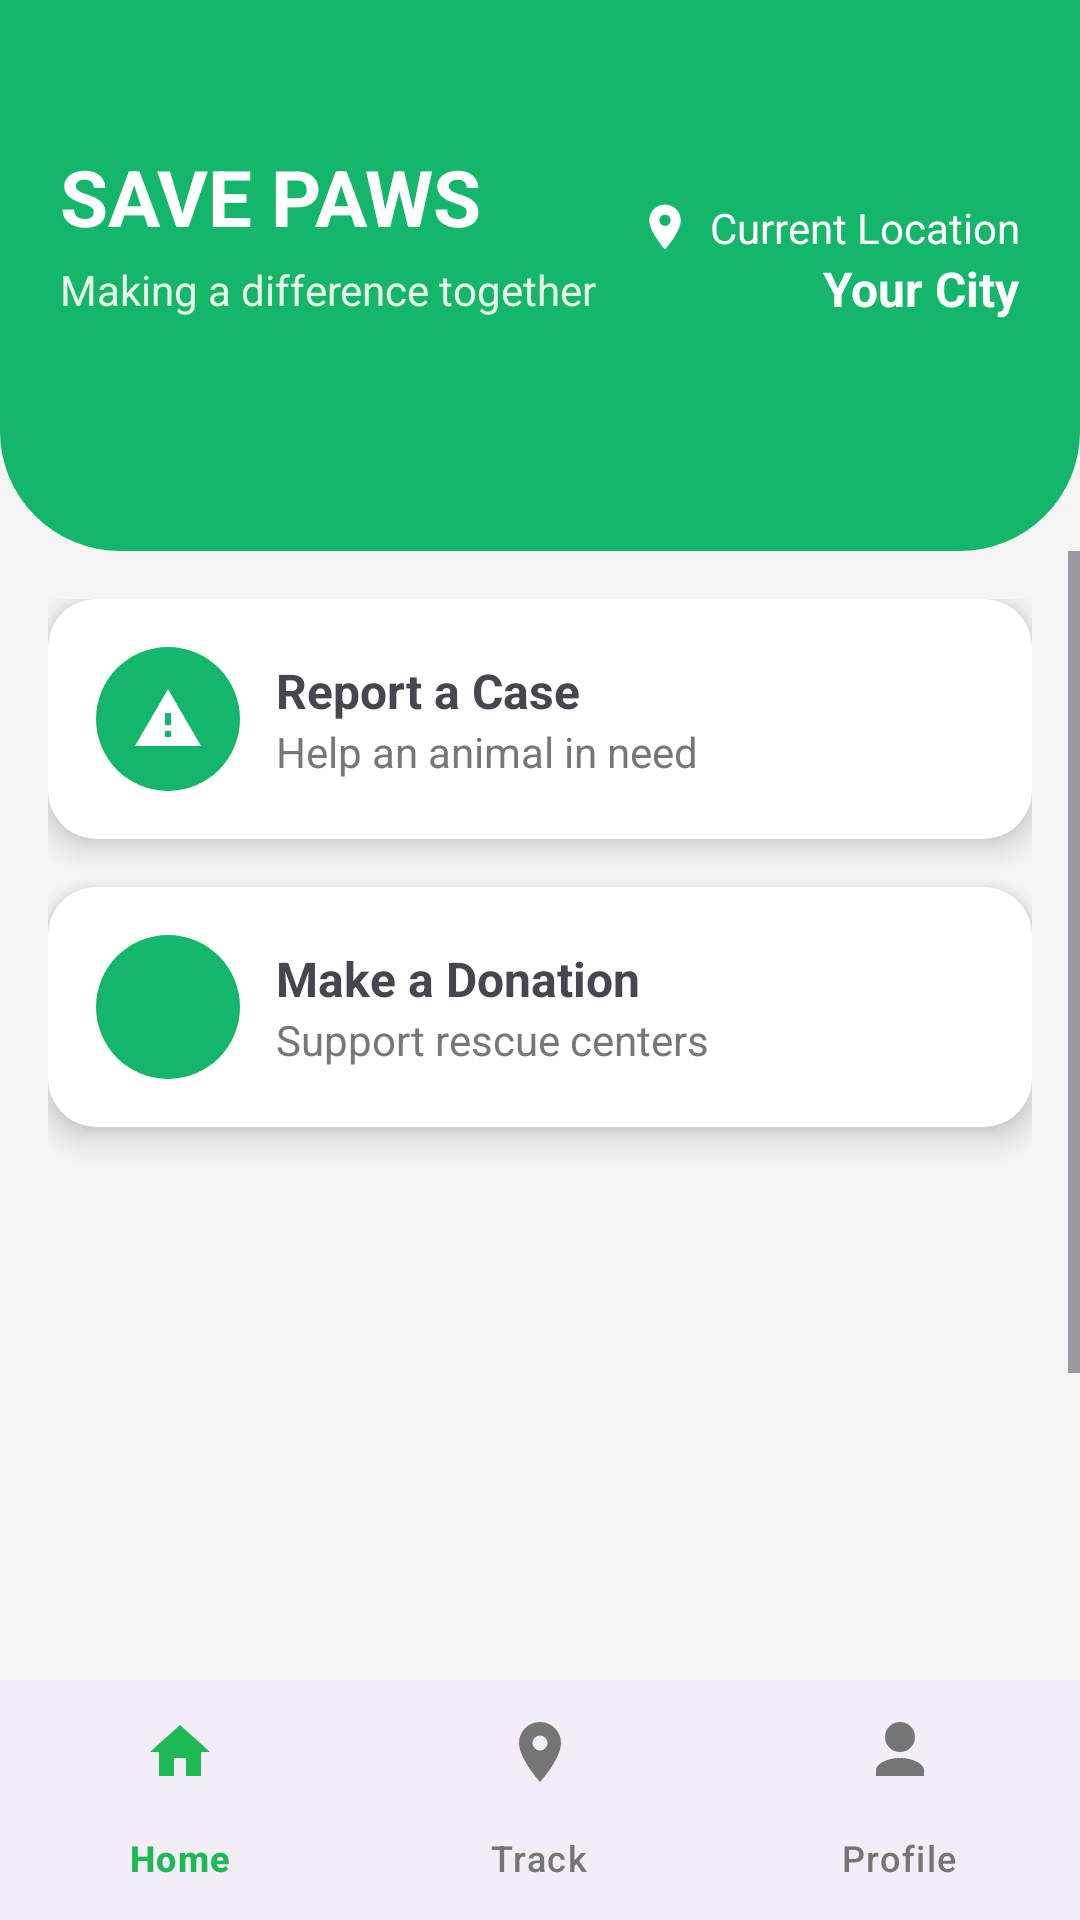

Screen size 1080x1920. Icon name, then its box in pixels as (x1, y1, x2, y2):
alert: (96, 647, 240, 791)
